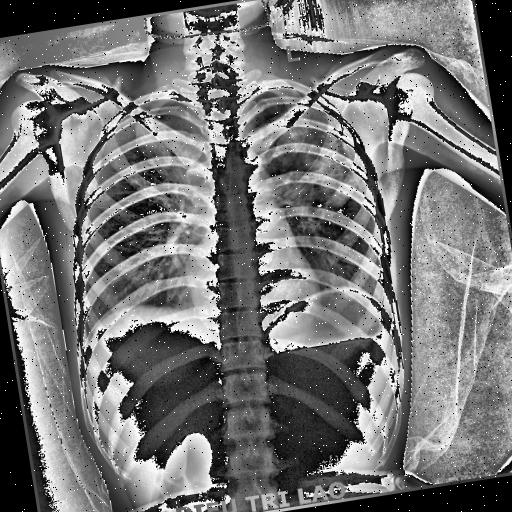13- Pulmonary fibrosis: (268, 118, 354, 221)
6- Infiltration: (268, 118, 354, 221), (274, 110, 356, 205), (276, 119, 352, 217)
7- Lung Opacity: (274, 110, 356, 205), (276, 119, 352, 217)
